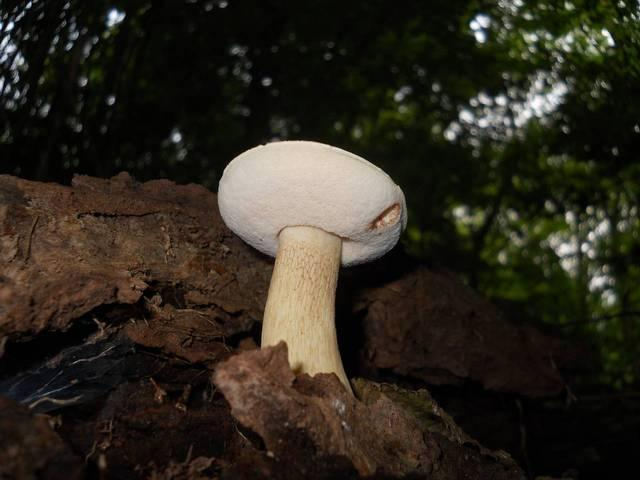poisonous_mushroom: (215, 138, 408, 398)
